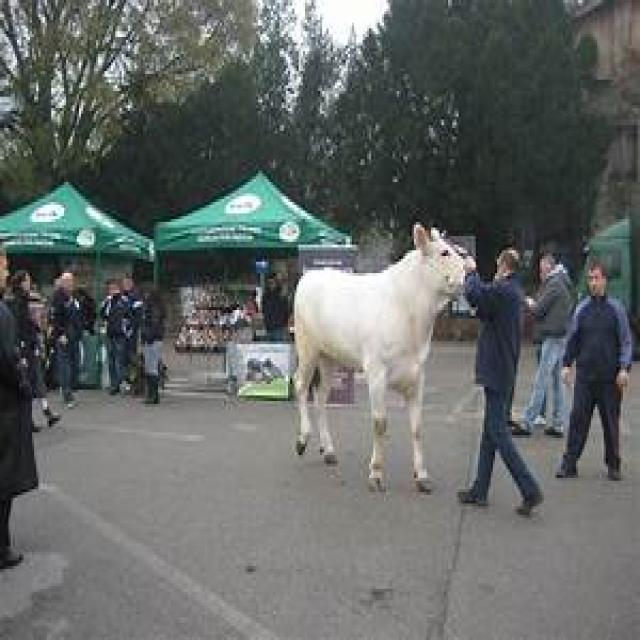cow: (297, 225, 474, 495)
